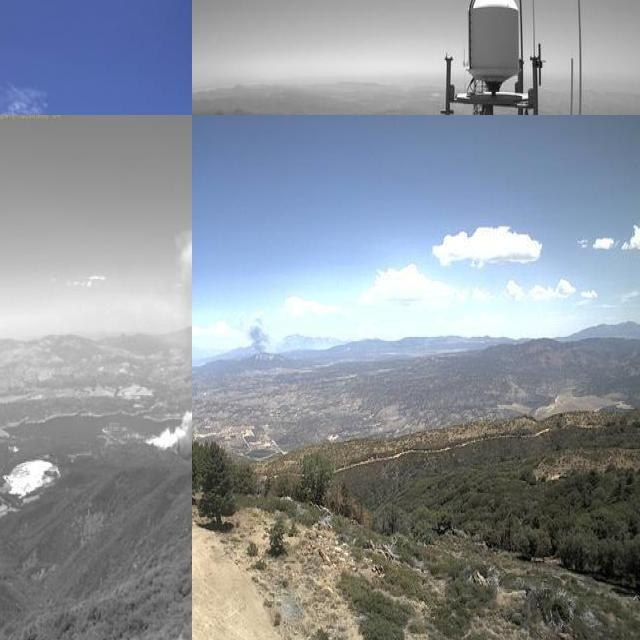smoke: (144, 220, 192, 458), (241, 317, 276, 362)
